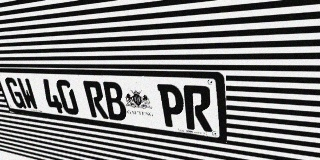0: (55, 79, 80, 115)
4: (40, 79, 64, 113)
B: (101, 81, 128, 122)
G: (4, 77, 27, 109)
P: (157, 84, 186, 129)
R: (183, 85, 212, 132), (82, 81, 109, 119)
W: (16, 78, 40, 110)
